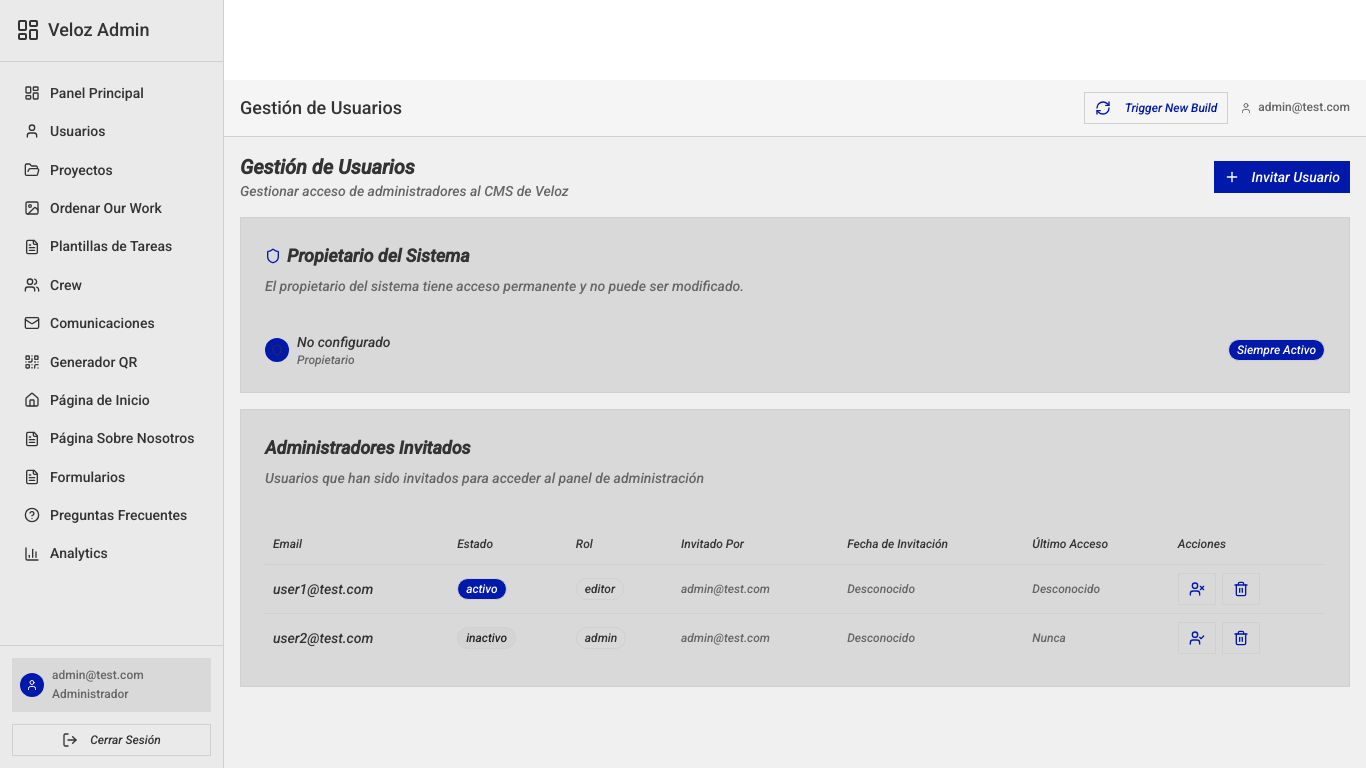
it: UsersPage › User Invitation › should prevent inviting existing users
Click the button "Invitar Usuario" at (1282,177), box left=1214, top=161, right=1350, bottom=193
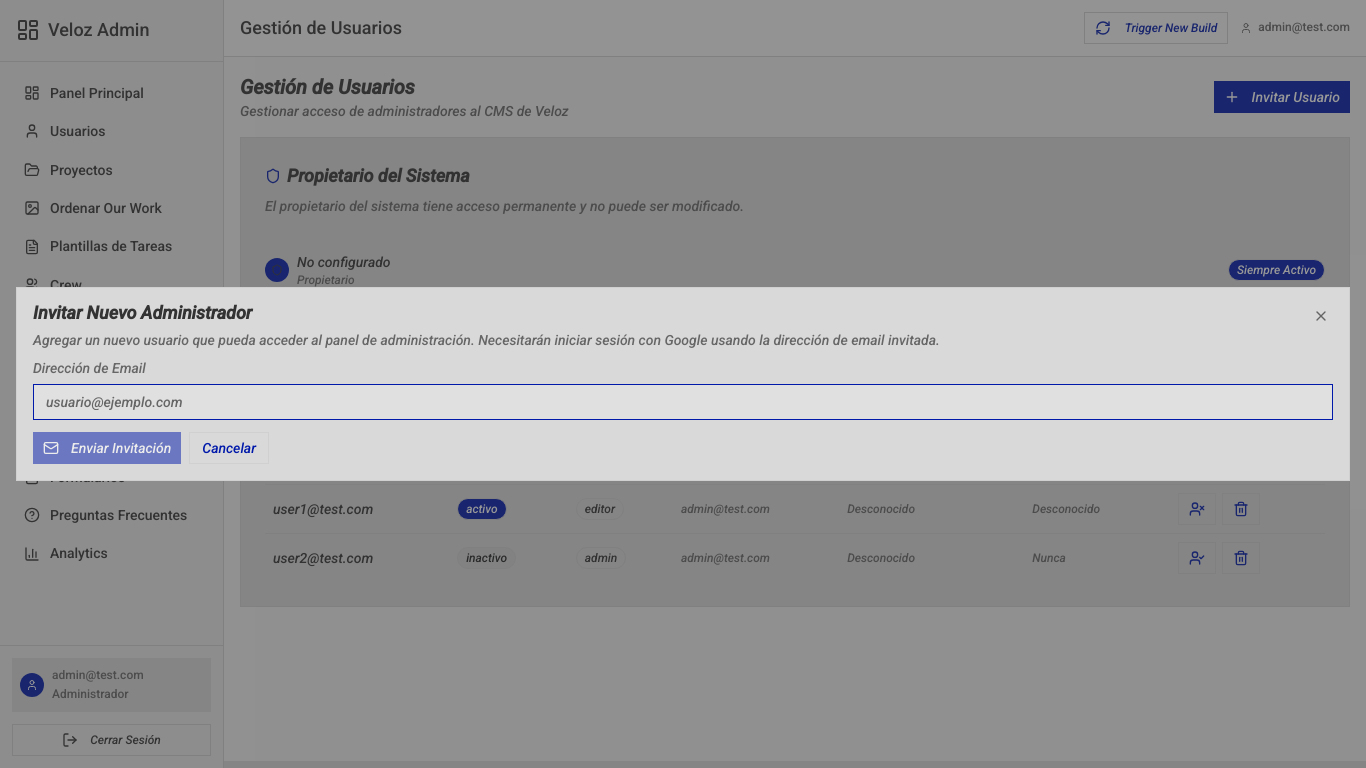
Type "user1@test.com" into the field labelled "Dirección de Email" at (683,402), box left=33, top=384, right=1333, bottom=420
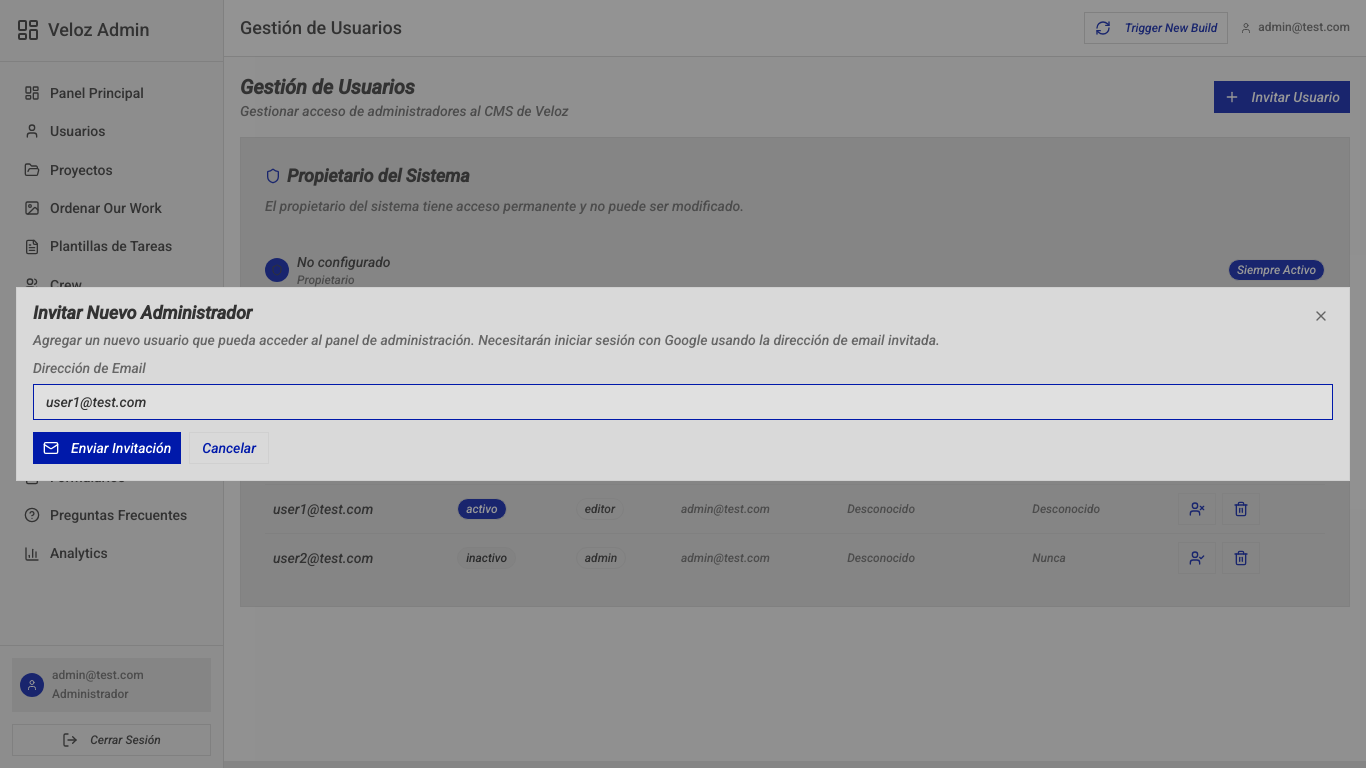
Click the button "Enviar Invitación" at (107,448), box left=33, top=432, right=181, bottom=464
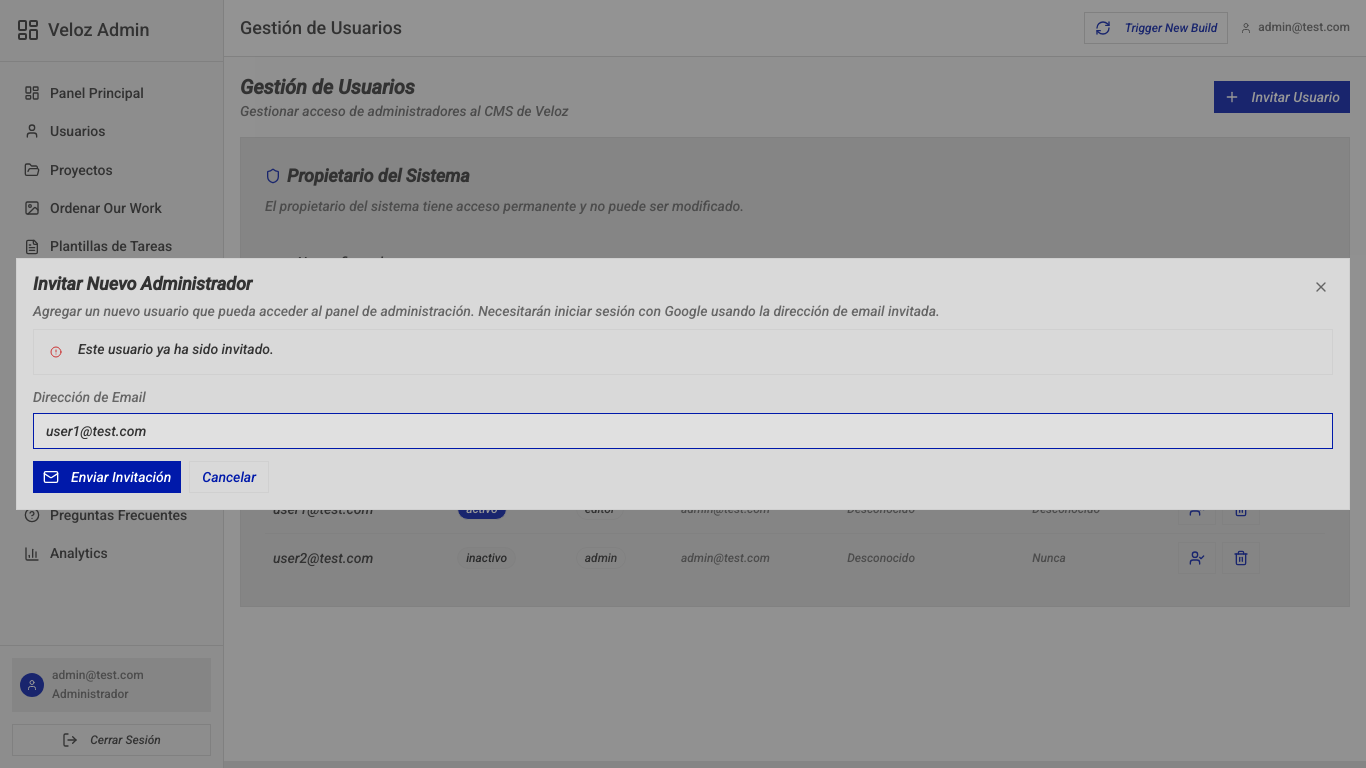
expect the text "Este usuario ya ha sido invitado." is shown: met, box left=78, top=341, right=274, bottom=357
